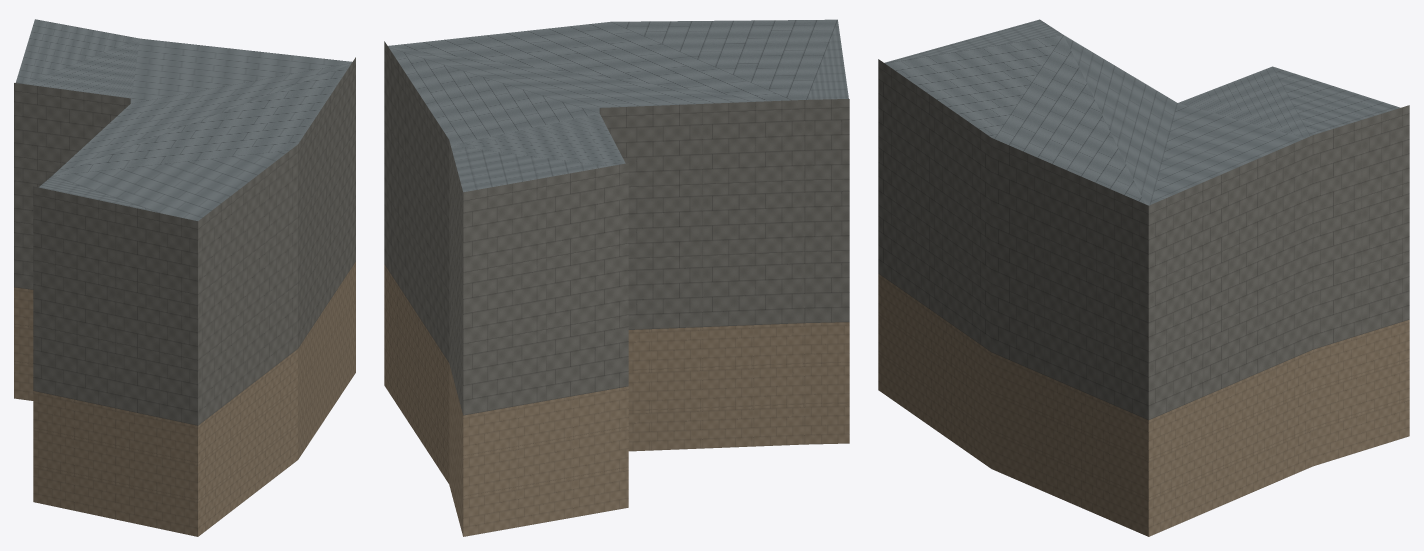
The model's file is bld_c23_-49_530.gltf.
3 renders of one model, left to right at view 1: azimuth 30°, elevation 25°; view 2: azimuth 150°, elevation 25°; view 3: azimuth 270°, elevation 25°, orthographic. The views are drawn at different scales.
Parts seen in each view (by area): view 1: bld_c23_-49_530; view 2: bld_c23_-49_530; view 3: bld_c23_-49_530.
Part boxes in pixels (x1,y1,x2,y2): bld_c23_-49_530: (14, 19, 355, 536); bld_c23_-49_530: (384, 19, 849, 536); bld_c23_-49_530: (878, 19, 1409, 536).
Size of the model in its own units: 17.98 by 14.48 by 21.05.
Materials: 4 (4 with a texture image).
